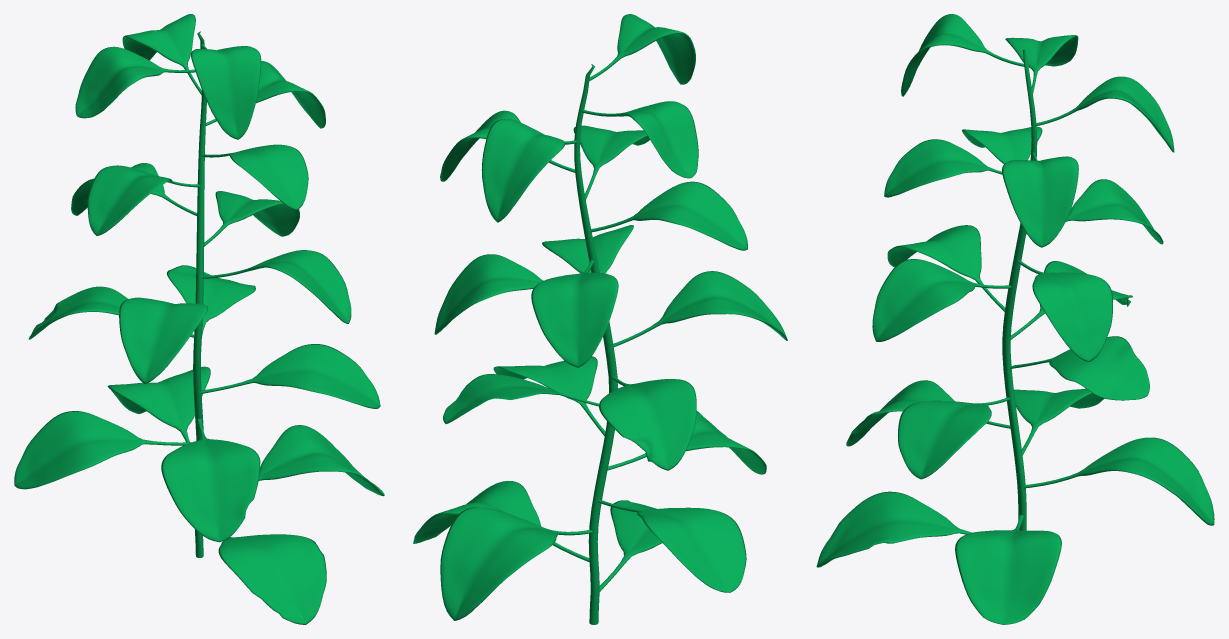
File: plant_low.dae
The picture shows the model from 3 angles, left to right: view 1: azimuth 30°, elevation 25°; view 2: azimuth 150°, elevation 25°; view 3: azimuth 270°, elevation 25°; orthographic projection. The views are drawn at different scales.
Visible parts, largest first — view 1: stem; view 2: stem; view 3: stem.
Boxes of the visible parts, <box> form: stem: <box>14,14,384,624</box>; stem: <box>413,14,787,624</box>; stem: <box>816,14,1214,624</box>.
Bounding box in the file's own units: 0.1538 × 0.1608 × 0.2397.
Materials: 1 (1 with a texture image).
